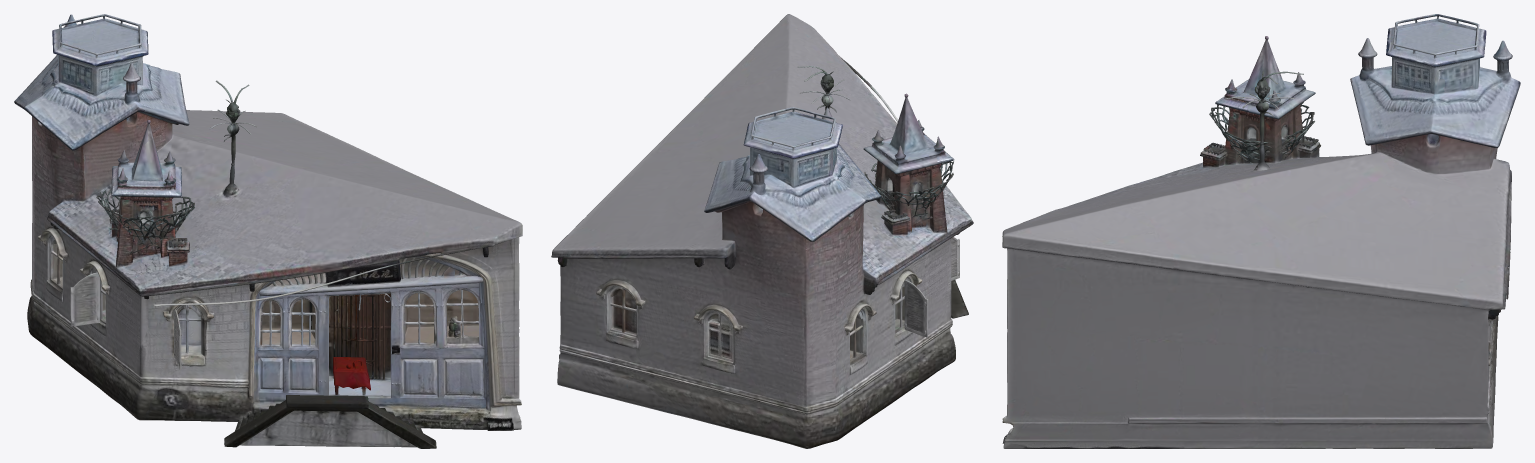
File: building.glb
3 views of the same model, side by side, from view 1: azimuth 30°, elevation 25°; view 2: azimuth 150°, elevation 25°; view 3: azimuth 270°, elevation 25° (orthographic). The views are drawn at different scales.
Size of the model in its own units: 0.6758 by 0.646 by 0.9802.
Materials: 1 (1 with a texture image).
